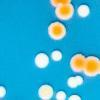orange: (42, 19, 68, 41), (82, 52, 100, 79), (52, 2, 75, 21), (67, 51, 86, 74), (47, 0, 74, 7)
white: (31, 51, 51, 70), (34, 83, 56, 100), (49, 47, 63, 63), (77, 3, 91, 19), (66, 75, 78, 91), (73, 72, 84, 88), (66, 92, 83, 100), (0, 83, 8, 100), (55, 89, 67, 100)
